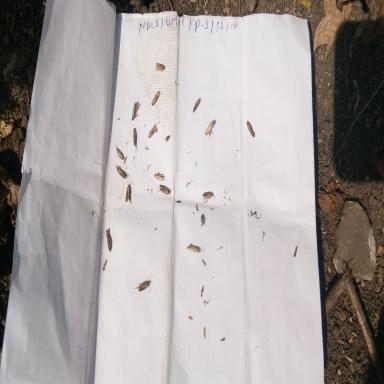pbw: (240, 114, 260, 148), (124, 124, 144, 153), (198, 182, 219, 206), (109, 163, 135, 182), (111, 133, 126, 163), (121, 182, 138, 208), (134, 272, 154, 294), (189, 91, 203, 119), (152, 58, 170, 79), (127, 101, 142, 122), (146, 119, 160, 140), (102, 228, 113, 252), (204, 118, 216, 140), (185, 241, 205, 254), (156, 183, 174, 196), (151, 90, 161, 106), (152, 171, 166, 181)
